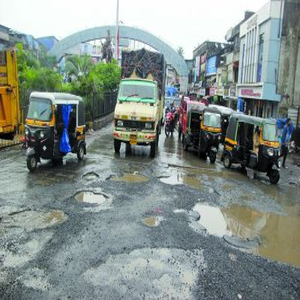pothole: (160, 169, 219, 190), (15, 207, 70, 227), (72, 188, 108, 208), (107, 170, 150, 186)
